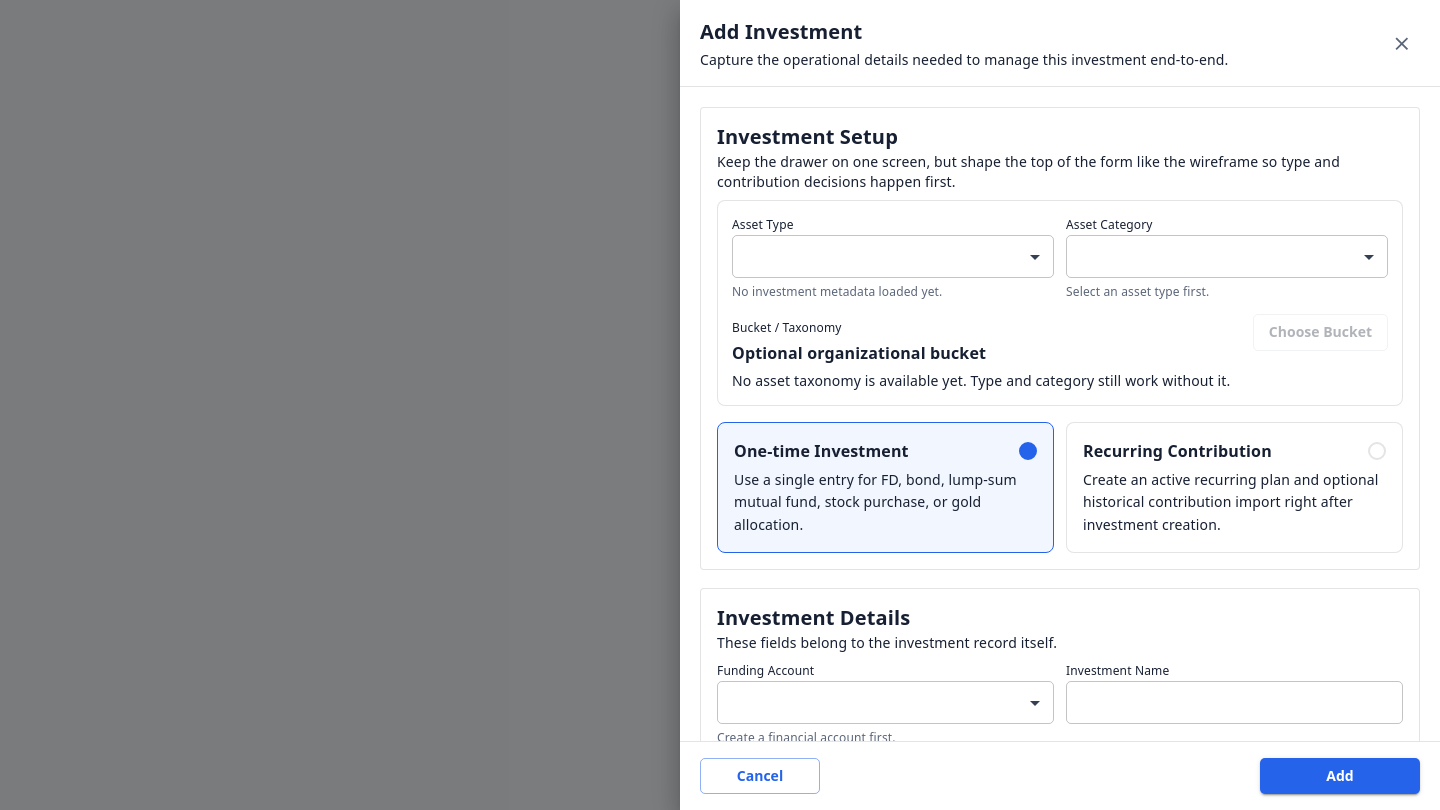
Test case: InvestmentFormDrawer › blocks submission and shows required investment fields
Click the button "Add" at x=1340, y=776, box [1260,758,1420,794]
(page scrolled)
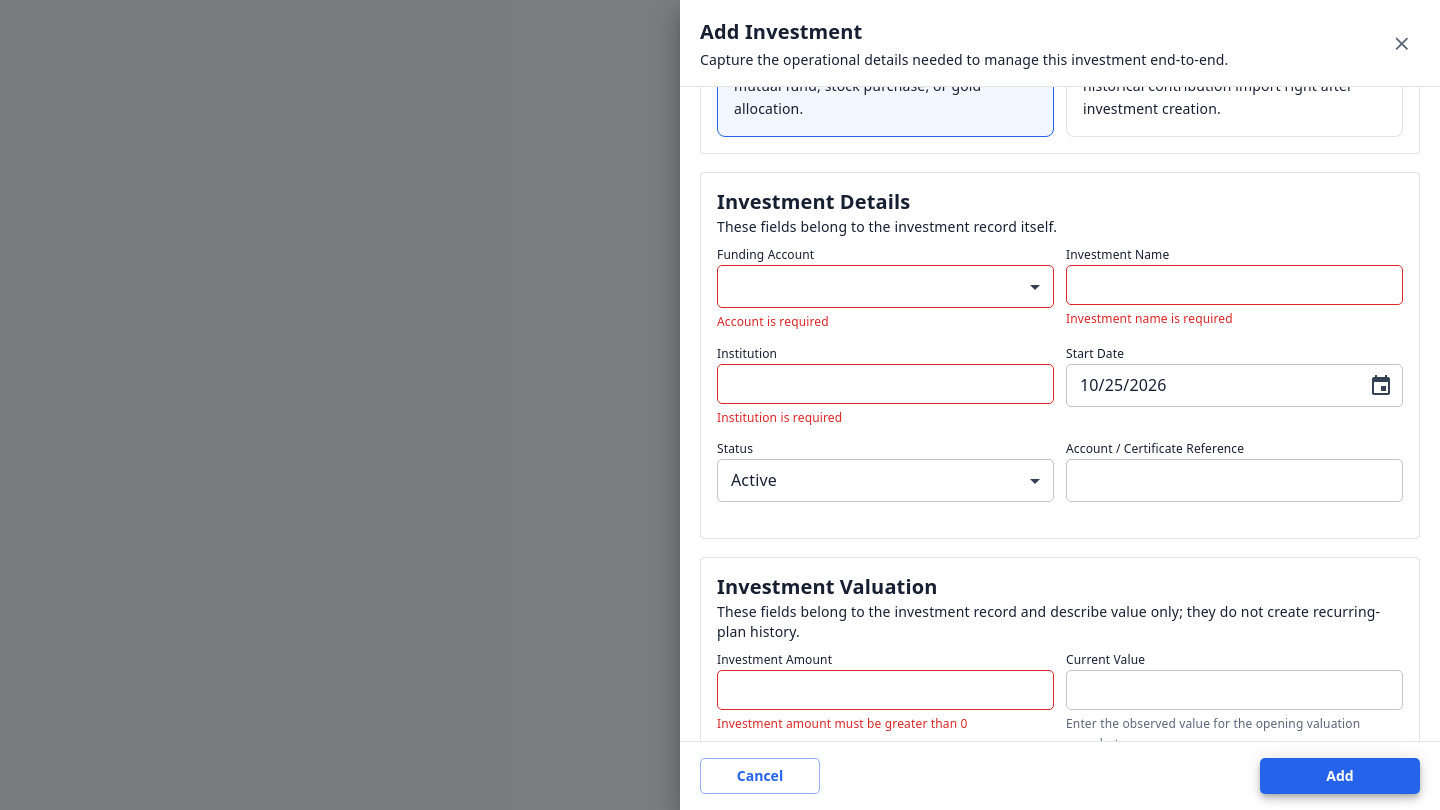
expect the text "Account is required" is shown: met, box [717,313,829,330]
expect the text "Investment name is required" is shown: met, box [1066,310,1233,327]
expect the text "Institution is required" is shown: met, box [717,409,842,426]
